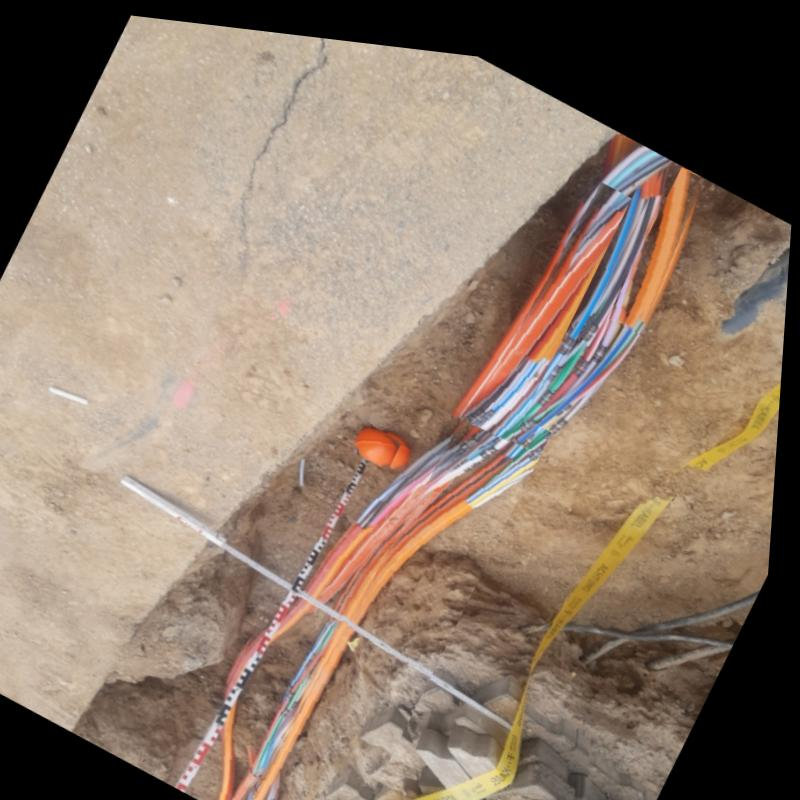Kugelmarker: (360, 416, 404, 454)
Orang-Speednetrohrchen: (256, 418, 556, 800), (227, 412, 486, 800), (459, 130, 669, 403), (472, 209, 620, 417), (623, 149, 693, 324)
